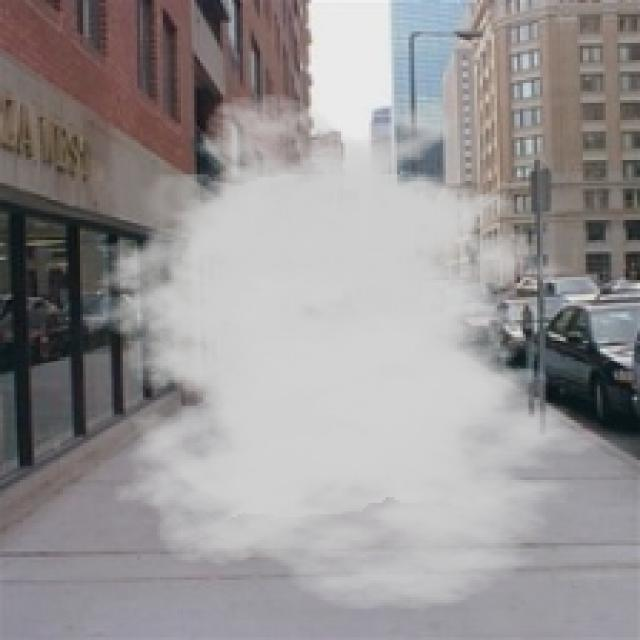smoke: (71, 91, 628, 612)
